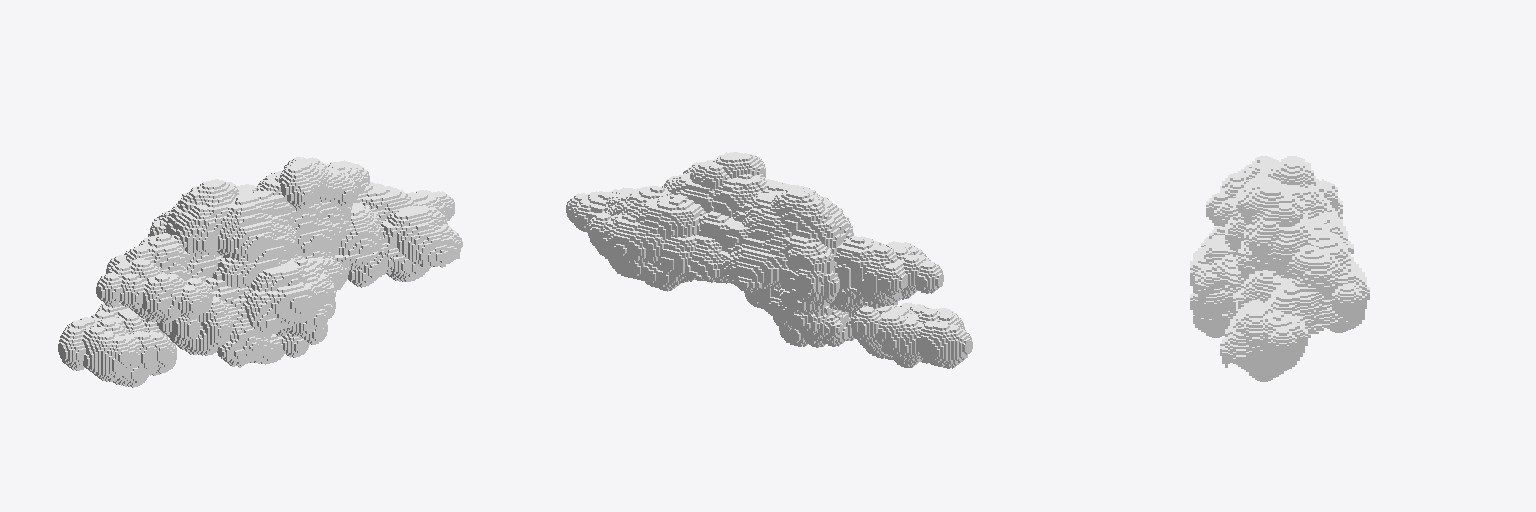
Rendered from forest1.2-115.obj.
3 views of the same model, side by side, from view 1: azimuth 30°, elevation 25°; view 2: azimuth 150°, elevation 25°; view 3: azimuth 270°, elevation 25° (orthographic).
Parts seen in each view (by area): view 1: object 1; view 2: object 1; view 3: object 1.
Part boxes in pixels (left/top/right/bottom): object 1: left=58, top=157, right=462, bottom=387; object 1: left=566, top=152, right=972, bottom=368; object 1: left=1190, top=156, right=1369, bottom=381.
Bounding box in the file's own units: 17 × 7.1 × 6.7.